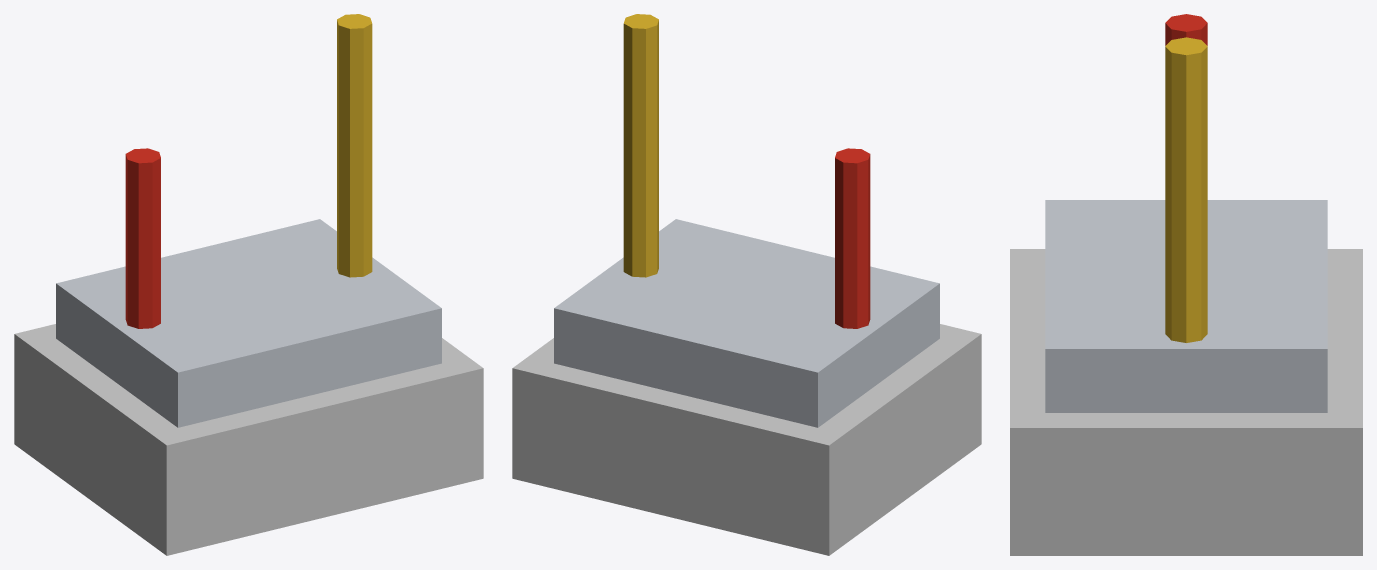
The model's file is guidance_command.obj.
3 views of the same model, side by side, from view 1: azimuth 30°, elevation 25°; view 2: azimuth 150°, elevation 25°; view 3: azimuth 270°, elevation 25° (orthographic). The views are drawn at different scales.
Parts seen in each view (by area): view 1: guidance_command; view 2: guidance_command; view 3: guidance_command.
Boxes of the visible parts, x1,y1,x2,y2 form: guidance_command: [14, 14, 483, 555]; guidance_command: [512, 14, 981, 555]; guidance_command: [1010, 14, 1362, 555].
Size of the model in its own units: 0.24 by 0.3 by 0.2.
